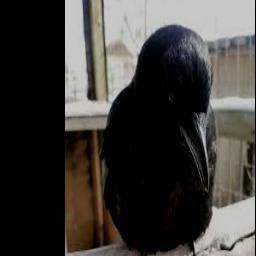Crow: (99, 24, 217, 256)
